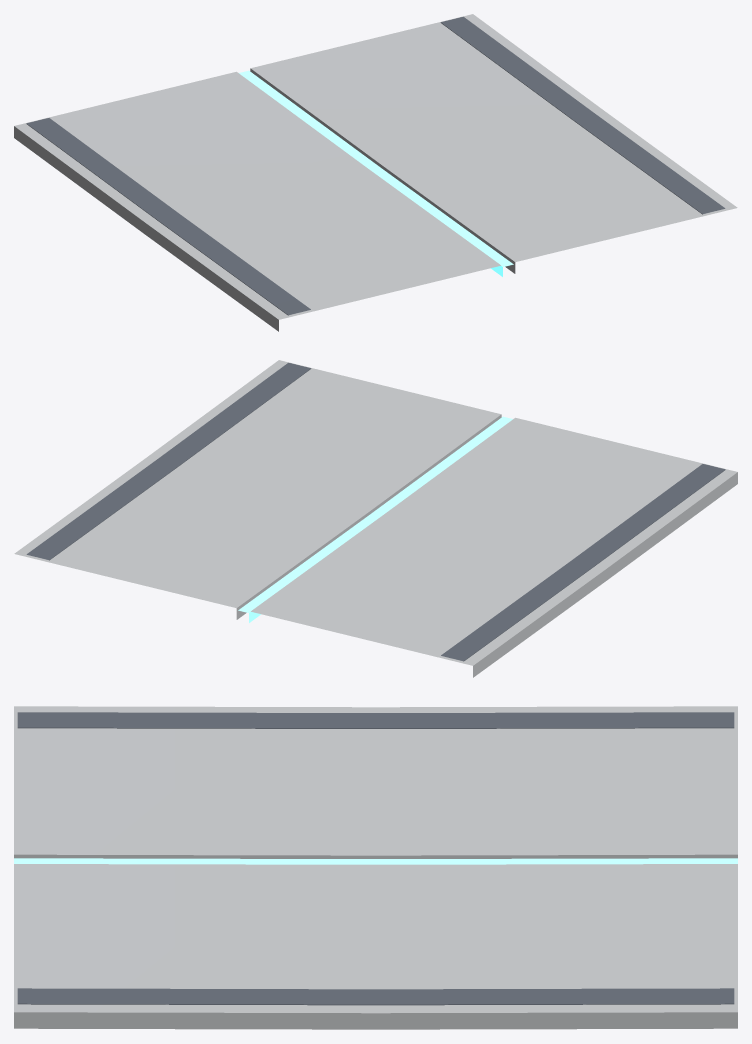
Rendered from ext_paving_promenade_05.glb.
3 renders of one model, top to bottom at view 1: azimuth 30°, elevation 25°; view 2: azimuth 150°, elevation 25°; view 3: azimuth 270°, elevation 25°, orthographic. The views are drawn at different scales.
Parts seen in each view (by area): view 1: Pavers, Edge_Bands, Glow_Channel; view 2: Pavers, Edge_Bands, Glow_Channel; view 3: Pavers, Edge_Bands, Glow_Channel.
Boxes of the visible parts, x1=… form: Pavers: x1=14, y1=14, x2=737, y2=331; Edge_Bands: x1=26, y1=16, x2=725, y2=315; Glow_Channel: x1=239, y1=70, x2=513, y2=276; Pavers: x1=14, y1=360, x2=737, y2=677; Edge_Bands: x1=26, y1=362, x2=725, y2=661; Glow_Channel: x1=238, y1=416, x2=512, y2=622; Pavers: x1=14, y1=706, x2=737, y2=1029; Edge_Bands: x1=17, y1=712, x2=734, y2=1005; Glow_Channel: x1=14, y1=858, x2=737, y2=864.
Size of the model in its own units: 1.99 by 0.0566 by 1.99.
